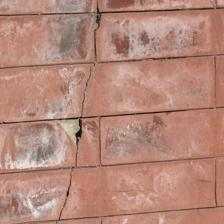Crack: (0, 0, 81, 86), (0, 26, 98, 83)
